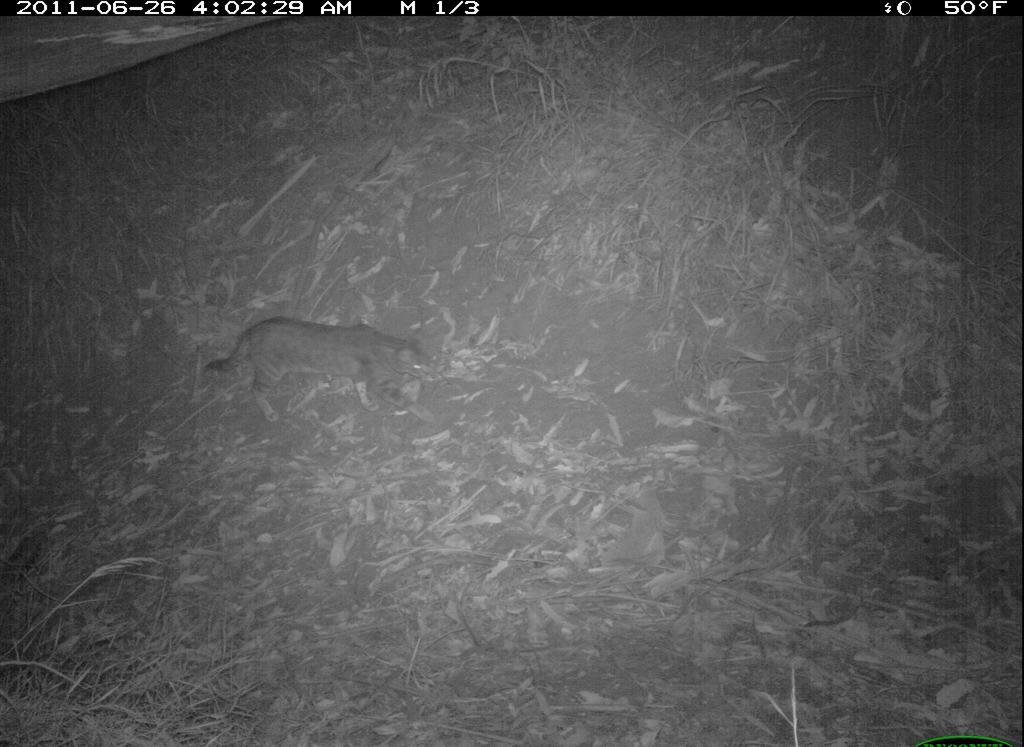cat: (199, 312, 441, 425)
